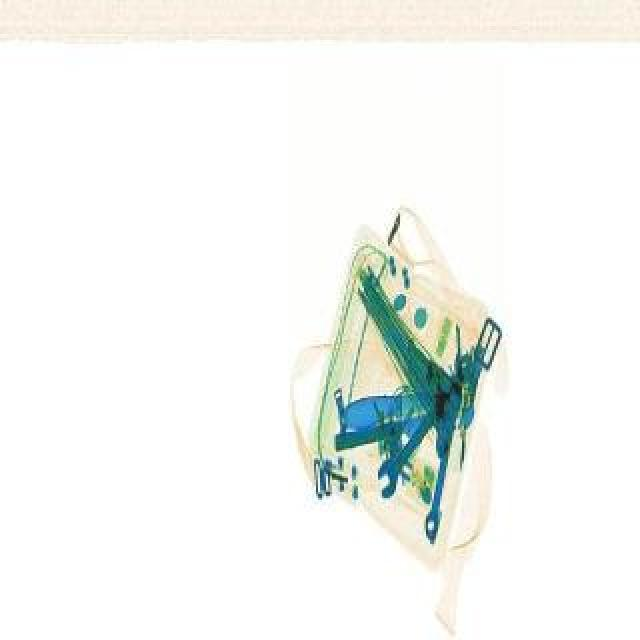gun: (410, 344, 450, 462)
knife: (338, 386, 458, 434), (334, 410, 458, 454)
scissors: (366, 358, 484, 504), (422, 360, 470, 542)
